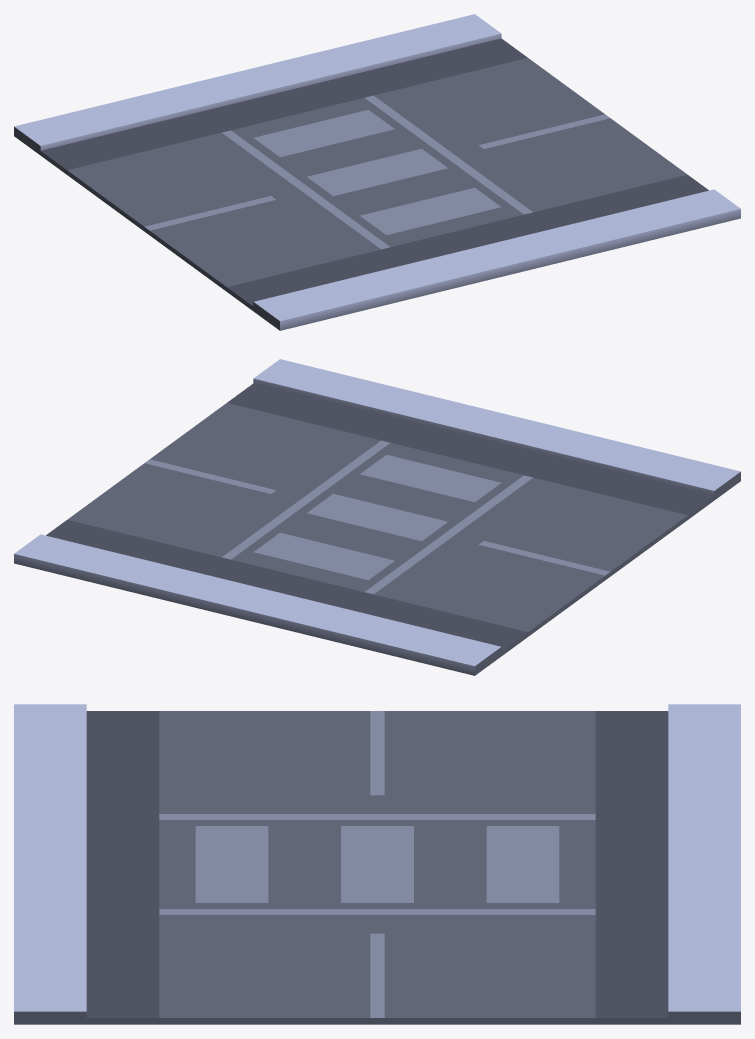
File: road-crossing.glb
The picture shows the model from 3 angles, top to bottom: view 1: azimuth 30°, elevation 25°; view 2: azimuth 150°, elevation 25°; view 3: azimuth 270°, elevation 25°; orthographic projection. The views are drawn at different scales.
Visible parts, largest first — view 1: road-crossing; view 2: road-crossing; view 3: road-crossing.
Boxes of the visible parts, x1,y1,x2,y2 form: road-crossing: (14, 14, 740, 330); road-crossing: (14, 359, 740, 675); road-crossing: (14, 704, 740, 1024).
Bounding box in the file's own units: 8 × 0.1602 × 8.
1 material, 1 textured.
